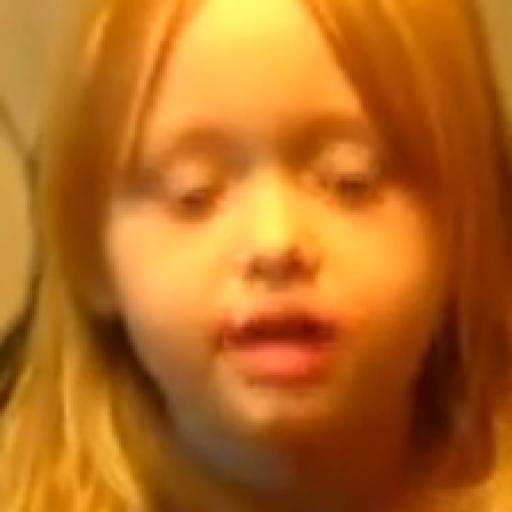Autism: (70, 26, 512, 467)
